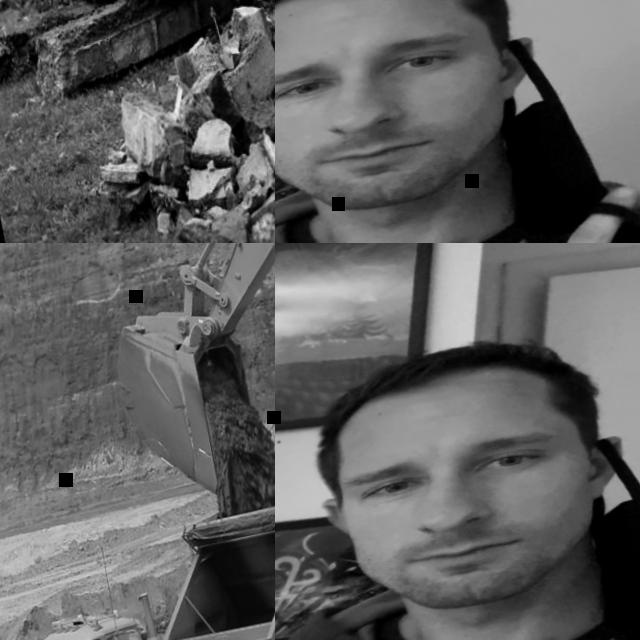NO-Hardhat: (307, 323, 609, 446), (275, 0, 519, 47)
NO-Mask: (328, 465, 639, 629), (275, 66, 550, 230)
NO-Safety Vest: (275, 167, 640, 243), (275, 566, 640, 640)
Person: (275, 294, 640, 640), (275, 0, 640, 243)
machinery: (0, 440, 275, 640), (73, 243, 275, 513)
